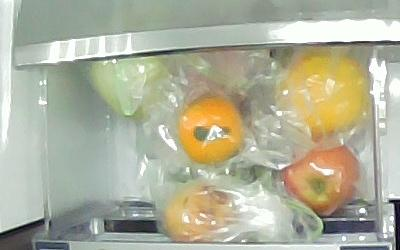apple_vinyl: (282, 143, 360, 215)
grapefruit_vinyl: (275, 53, 366, 143)
lettuce_vinyl: (88, 53, 172, 123)
peach_vinyl: (163, 182, 236, 244)
persimmon_vinyl: (178, 96, 245, 164)
